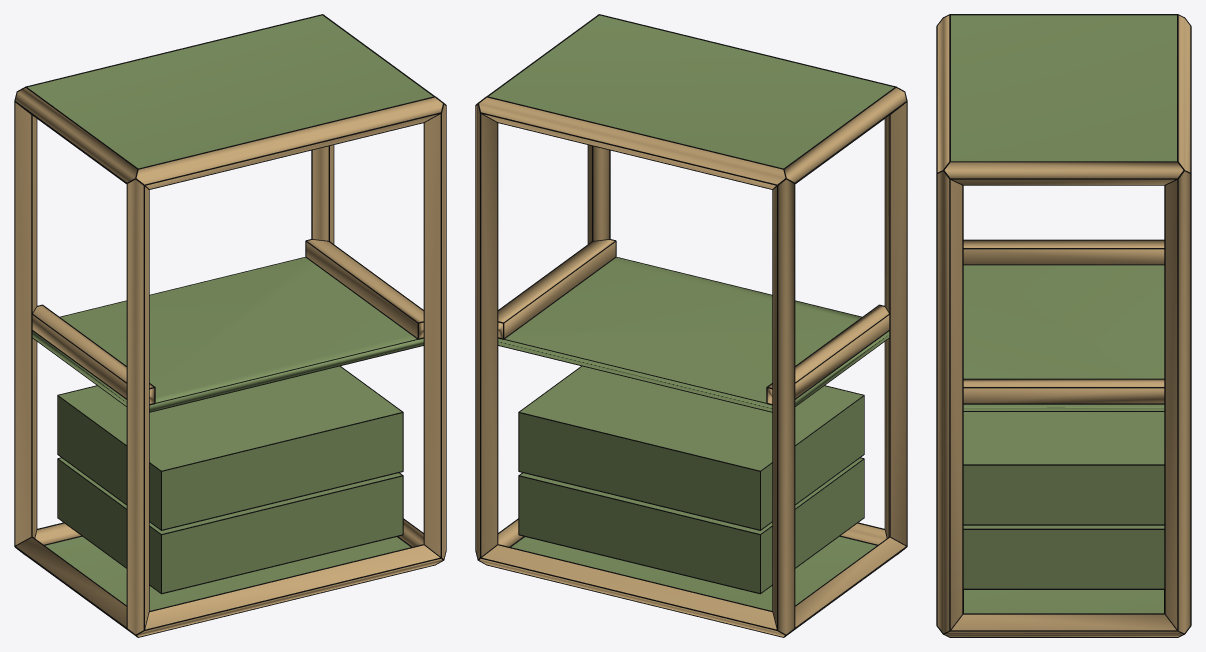
File: 005-commode-moyenne.glb
The picture shows the model from 3 angles, left to right: view 1: azimuth 30°, elevation 25°; view 2: azimuth 150°, elevation 25°; view 3: azimuth 270°, elevation 25°; orthographic projection.
Visible parts, largest first — view 1: mod-drawer-1, panneau-dessus_exterieur, tablette-plate-mod-0, mod-drawer-0, arete-Z0, arete-Z2, arete-Z1, arete-X2, arete-X0, panneau-dessous, tablette-traverse-right-mod-0, tablette-traverse-left-mod-0 (+15 smaller); view 2: mod-drawer-1, panneau-dessus_exterieur, tablette-plate-mod-0, mod-drawer-0, arete-Z2, arete-Z0, arete-Z3, arete-X3, arete-X1, panneau-dessous, tablette-traverse-right-mod-0, tablette-traverse-left-mod-0 (+15 smaller); view 3: panneau-dessus_exterieur, tablette-plate-mod-0, mod-drawer-1, mod-drawer-0, arete-Z1, arete-Z3, arete-Y3, arete-Y1, tablette-traverse-left-mod-0, tablette-traverse-right-mod-0, panneau-dessous, arete-wire-Z1 (+12 smaller).
Part boxes in pixels (left/top/right/bottom): mod-drawer-1: left=58, top=366, right=402, bottom=529; panneau-dessus_exterieur: left=28, top=15, right=432, bottom=168; tablette-plate-mod-0: left=32, top=257, right=423, bottom=411; mod-drawer-0: left=58, top=458, right=402, bottom=592; arete-Z0: left=127, top=179, right=148, bottom=634; arete-Z2: left=15, top=103, right=36, bottom=545; arete-Z1: left=424, top=104, right=445, bottom=558; arete-X2: left=136, top=97, right=442, bottom=188; arete-X0: left=137, top=545, right=442, bottom=636; panneau-dessous: left=45, top=536, right=410, bottom=610; tablette-traverse-right-mod-0: left=306, top=240, right=423, bottom=338; tablette-traverse-left-mod-0: left=32, top=305, right=154, bottom=403; mod-drawer-1: left=519, top=366, right=863, bottom=529; panneau-dessus_exterieur: left=489, top=15, right=893, bottom=168; tablette-plate-mod-0: left=498, top=257, right=889, bottom=411; mod-drawer-0: left=519, top=458, right=863, bottom=592; arete-Z2: left=773, top=179, right=794, bottom=634; arete-Z0: left=885, top=103, right=906, bottom=545; arete-Z3: left=476, top=104, right=497, bottom=558; arete-X3: left=479, top=97, right=785, bottom=188; arete-X1: left=479, top=545, right=784, bottom=636; panneau-dessous: left=511, top=536, right=876, bottom=610; tablette-traverse-right-mod-0: left=498, top=240, right=615, bottom=338; tablette-traverse-left-mod-0: left=767, top=305, right=889, bottom=403; panneau-dessus_exterieur: left=951, top=15, right=1176, bottom=161; tablette-plate-mod-0: left=963, top=265, right=1164, bottom=410; mod-drawer-1: left=963, top=412, right=1164, bottom=524; mod-drawer-0: left=963, top=525, right=1164, bottom=588; arete-Z1: left=937, top=171, right=962, bottom=633; arete-Z3: left=1165, top=171, right=1190, bottom=633; arete-Y3: left=944, top=162, right=1183, bottom=184; arete-Y1: left=945, top=614, right=1182, bottom=636; tablette-traverse-left-mod-0: left=963, top=240, right=1164, bottom=264; tablette-traverse-right-mod-0: left=963, top=379, right=1164, bottom=403; panneau-dessous: left=964, top=590, right=1163, bottom=613; arete-wire-Z1: left=936, top=170, right=963, bottom=630.
Bounding box in the file's own units: 0.6238 × 0.8738 × 0.4238.
